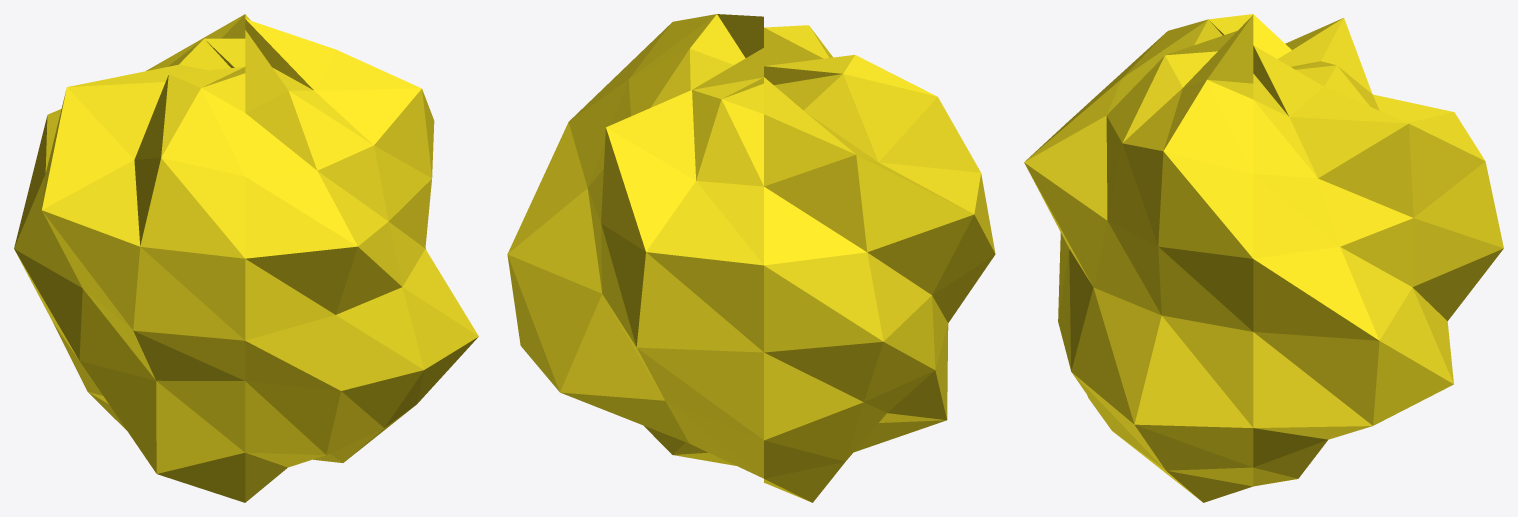
Rendered from asteroid_low_4.obj.
3 renders of one model, left to right at view 1: azimuth 30°, elevation 25°; view 2: azimuth 150°, elevation 25°; view 3: azimuth 270°, elevation 25°, orthographic. The views are drawn at different scales.
Visible parts, largest first — view 1: asteroid_low; view 2: asteroid_low; view 3: asteroid_low.
Boxes of the visible parts, x1=… form: asteroid_low: x1=14, y1=14, x2=478, y2=502; asteroid_low: x1=507, y1=14, x2=995, y2=502; asteroid_low: x1=1024, y1=14, x2=1503, y2=502.
Size of the model in its own units: 2.1 by 2.29 by 2.17.
